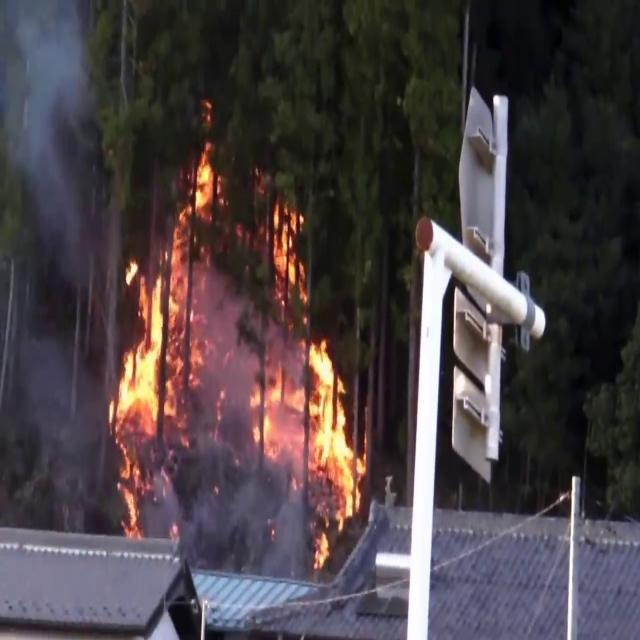Fire: (252, 187, 368, 544), (110, 149, 214, 439)
Smoke: (0, 0, 117, 318), (195, 288, 281, 540), (16, 316, 108, 512)
